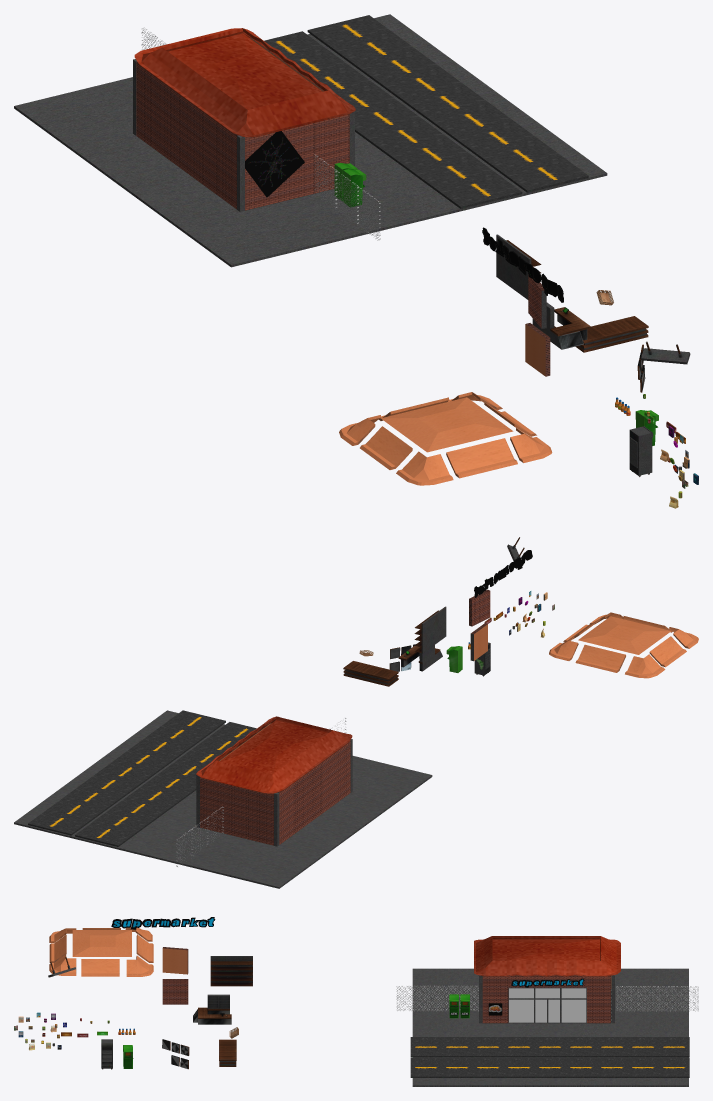
The model's file is market.fbx.
The picture shows the model from 3 angles, top to bottom: view 1: azimuth 30°, elevation 25°; view 2: azimuth 150°, elevation 25°; view 3: azimuth 270°, elevation 25°; orthographic projection. The views are drawn at different scales.
Parts seen in each view (by area): view 1: Ground, Road, RoofPart2.001, RoofPart2.002, RoofPart3, Decal2, RoofPart3.007, Fence, RoofPart3.003, Table, CashMachine, MPartRoof1.002 (+22 smaller); view 2: Ground, Road, RoofPart2.001, RoofPart2.002, RoofPart3, Shelf, RoofPart3.006, Table, RoofPart3.002, Column, Wall.026, Wall.024 (+10 smaller); view 3: Ground, Road, Enter, RoofPart2.001, RoofPart2.002, Fence.001, RoofPart3.001, Shelf, Fence, CashMachine, SupermarketLabel, Wall.008 (+21 smaller).
Part boxes in pixels (x1,y1,x2,y2): Ground: (14,14,607,267); Road: (264,15,588,208); RoofPart2.001: (168,33,322,109); RoofPart2.002: (381,397,513,452); RoofPart3: (154,55,236,121); Decal2: (245,131,304,197); RoofPart3.007: (446,438,517,478); Fence: (314,154,380,240); RoofPart3.003: (260,93,329,132); Table: (575,316,648,352); CashMachine: (532,302,590,349); MPartRoof1.002: (396,451,453,485); Ground: (14,710,432,888); Road: (28,710,256,846); RoofPart2.001: (220,720,328,774); RoofPart2.002: (578,616,671,654); RoofPart3: (280,736,338,782); Shelf: (414,606,446,653); RoofPart3.006: (575,644,625,672); Table: (343,661,398,686); RoofPart3.002: (214,762,263,790); Column: (196,739,352,846); Wall.026: (224,808,249,839); Wall.024: (249,814,273,845); Ground: (412,968,688,1086); Road: (410,1037,689,1077); Enter: (508,987,586,1023); RoofPart2.001: (492,939,599,960); RoofPart2.002: (72,930,131,956); Fence.001: (616,986,698,1011); RoofPart3.001: (506,959,586,976); Shelf: (210,956,252,986); Fence: (396,985,478,1011); CashMachine: (193,994,231,1024); SupermarketLabel: (111,917,215,929); Wall.008: (162,947,188,974).
Bounding box in the file's own units: 2558 × 1028 × 4967.
6 materials, 5 textured.
